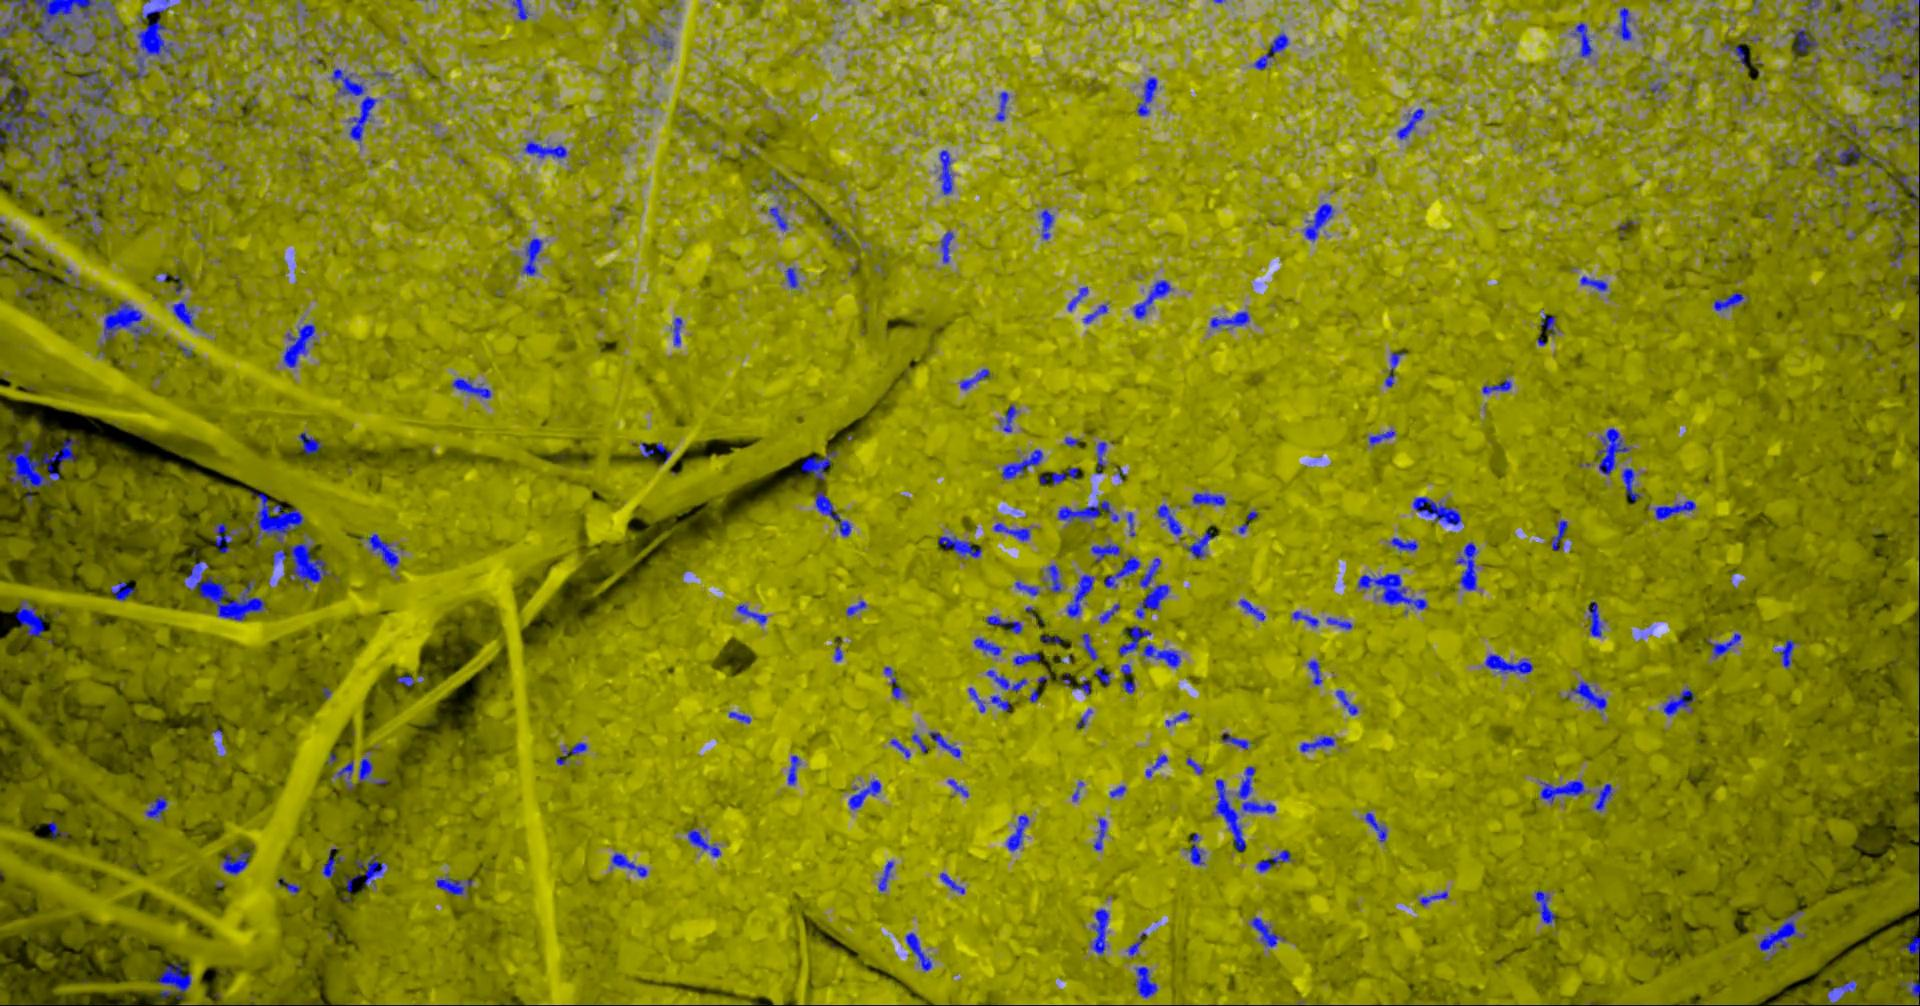ant: (333, 69, 378, 141), (1359, 573, 1429, 608), (1890, 0, 1920, 77), (1760, 909, 1807, 956), (1217, 779, 1247, 850), (290, 539, 333, 588), (104, 296, 150, 342), (1137, 558, 1171, 619), (138, 0, 174, 58), (1238, 766, 1277, 813), (345, 854, 389, 892), (817, 492, 853, 536), (1597, 427, 1630, 474), (1134, 279, 1175, 318), (76, 69, 116, 107), (284, 323, 317, 367), (1415, 495, 1463, 525), (1901, 935, 1920, 1005), (1255, 32, 1290, 69), (157, 962, 192, 998), (1003, 448, 1044, 479), (1059, 500, 1120, 521), (67, 107, 94, 152), (1542, 780, 1591, 804), (1893, 86, 1920, 131), (1572, 680, 1608, 713), (1068, 574, 1095, 617), (1106, 555, 1142, 587), (1839, 144, 1891, 165), (803, 450, 839, 480), (1305, 203, 1335, 241), (1457, 541, 1479, 589), (17, 600, 46, 636), (368, 533, 400, 567), (1252, 916, 1286, 946), (907, 932, 933, 970), (1120, 625, 1153, 655), (1486, 653, 1535, 673), (850, 779, 883, 809), (940, 535, 983, 558), (690, 828, 723, 857), (1898, 170, 1920, 213), (223, 845, 255, 874), (1663, 687, 1697, 715), (1144, 643, 1182, 667), (612, 852, 649, 876), (930, 730, 963, 757), (988, 669, 1029, 691), (1158, 504, 1183, 539), (1708, 633, 1742, 658), (1398, 108, 1426, 138), (1, 47, 28, 79), (1007, 814, 1030, 851), (215, 522, 241, 553), (1092, 908, 1110, 954), (1257, 848, 1291, 871), (1857, 43, 1886, 70), (1138, 77, 1158, 116), (523, 238, 543, 276), (453, 377, 491, 398), (1656, 500, 1697, 520), (524, 140, 568, 158), (1385, 351, 1407, 386), (1189, 531, 1217, 558), (1794, 25, 1818, 56), (1137, 967, 1159, 997), (996, 522, 1031, 541), (1623, 467, 1643, 500), (885, 666, 905, 699), (1537, 890, 1557, 923), (323, 848, 345, 878), (557, 742, 588, 763), (987, 615, 1023, 633), (437, 876, 474, 894), (1575, 22, 1594, 56), (1816, 149, 1839, 177), (940, 149, 954, 194), (1366, 812, 1388, 841), (1211, 311, 1250, 328), (643, 442, 673, 462), (1777, 638, 1797, 668), (1829, 979, 1859, 1000), (173, 301, 196, 328), (121, 56, 149, 77), (1239, 598, 1267, 620), (961, 368, 990, 389), (1716, 291, 1746, 310), (1092, 542, 1123, 561), (738, 605, 768, 624), (1337, 688, 1359, 715), (1189, 832, 1206, 864), (300, 431, 324, 453), (1068, 286, 1090, 311), (1589, 601, 1604, 636), (1223, 732, 1253, 749), (1302, 735, 1336, 751), (1147, 754, 1170, 777), (146, 795, 169, 818), (338, 760, 356, 789), (941, 873, 966, 893), (975, 636, 1002, 655), (1553, 520, 1570, 550), (879, 860, 895, 890), (1051, 467, 1079, 485), (1596, 782, 1614, 810), (1724, 43, 1747, 65), (1128, 932, 1148, 956), (1618, 8, 1633, 39), (112, 580, 137, 600), (1192, 492, 1227, 506), (1095, 817, 1109, 850), (770, 206, 789, 230), (833, 222, 852, 246), (1084, 304, 1109, 323), (1040, 210, 1055, 239), (942, 231, 956, 263), (1294, 610, 1321, 626), (1239, 511, 1258, 533), (1581, 276, 1609, 291), (1048, 564, 1063, 592), (1083, 633, 1098, 661), (1123, 663, 1137, 694), (970, 687, 987, 713), (1100, 603, 1121, 622), (279, 876, 301, 895), (1892, 231, 1906, 260), (1483, 379, 1512, 392), (789, 754, 803, 784), (1370, 429, 1397, 445), (1004, 404, 1018, 432), (1015, 652, 1043, 666), (1421, 890, 1449, 904), (1309, 659, 1324, 685), (891, 738, 912, 757), (949, 779, 970, 796), (1097, 441, 1109, 474), (997, 91, 1010, 121), (1167, 711, 1191, 727), (1095, 666, 1112, 686), (1016, 580, 1041, 594), (1392, 537, 1418, 550), (361, 757, 375, 781), (513, 0, 530, 20), (913, 733, 930, 753), (1542, 314, 1557, 335), (992, 695, 1011, 711), (50, 821, 69, 837), (847, 600, 867, 615), (1078, 708, 1093, 728), (786, 267, 800, 288), (1187, 757, 1205, 774), (674, 318, 684, 345), (1328, 617, 1352, 629), (397, 674, 420, 686), (730, 711, 752, 723), (1808, 0, 1822, 17), (660, 32, 674, 48), (1076, 680, 1092, 694), (1128, 511, 1137, 536), (274, 547, 287, 565), (1041, 634, 1065, 643), (1111, 785, 1128, 796), (1919, 741, 1920, 790)
